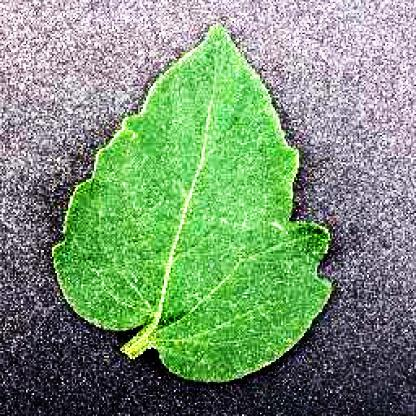Healthy: (48, 21, 332, 384)
